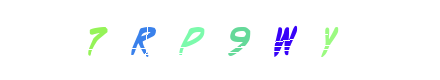7: (124, 0, 204, 80)
9: (178, 0, 258, 80)
P: (170, 0, 250, 80)
R: (159, 0, 239, 80)
W: (180, 0, 260, 80)
Y: (244, 0, 324, 80)
